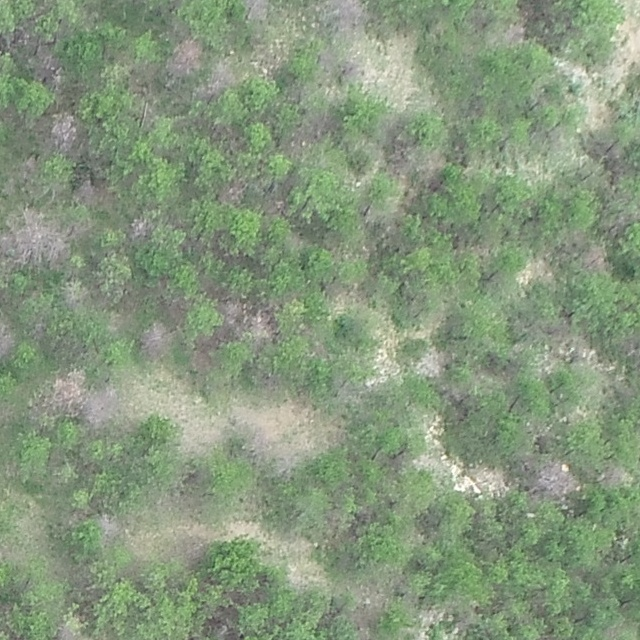unhealthy: (6, 209, 70, 267), (284, 109, 335, 150), (43, 369, 88, 415), (531, 460, 579, 498), (82, 385, 120, 430), (167, 36, 205, 76), (202, 59, 238, 99), (330, 0, 369, 35), (47, 111, 81, 151), (30, 43, 63, 84), (141, 320, 175, 358), (72, 177, 112, 207), (417, 147, 446, 185), (248, 307, 276, 340), (209, 118, 243, 145), (217, 177, 247, 206), (0, 312, 17, 363), (581, 243, 610, 272), (218, 299, 245, 329), (598, 462, 629, 488), (315, 46, 340, 78), (97, 511, 122, 540), (137, 98, 159, 128), (127, 215, 152, 240), (243, 0, 271, 22), (620, 328, 639, 360), (503, 22, 528, 46), (52, 623, 86, 640)
